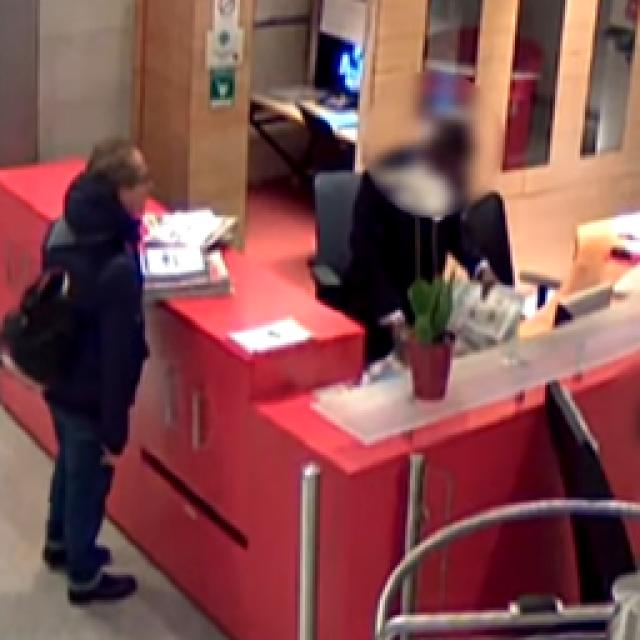person: (42, 135, 148, 602), (342, 115, 490, 360)
